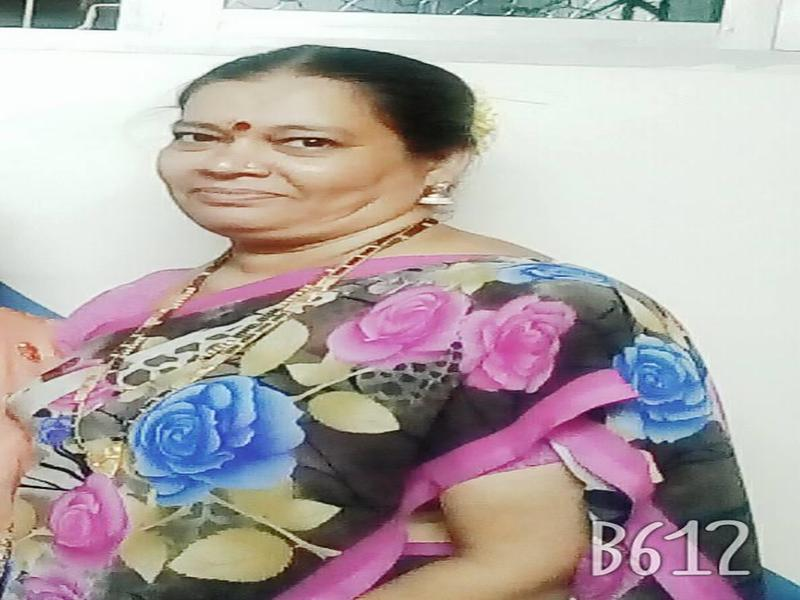without_mask: (155, 85, 402, 248)
